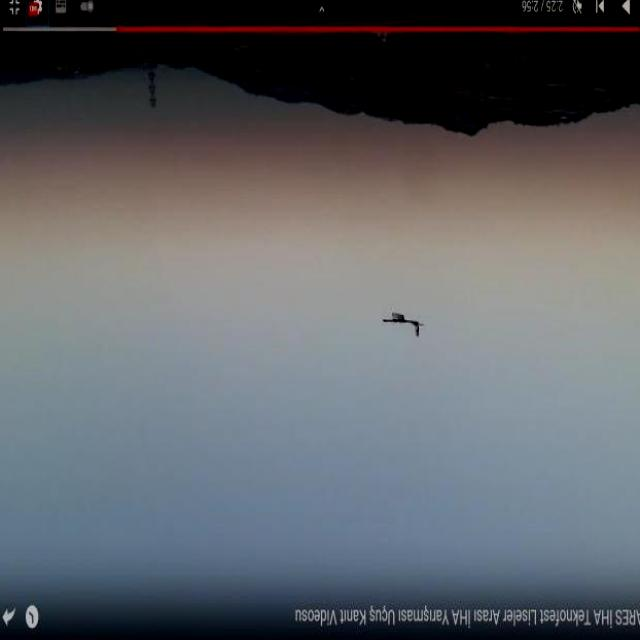plane: (382, 312, 425, 338)
